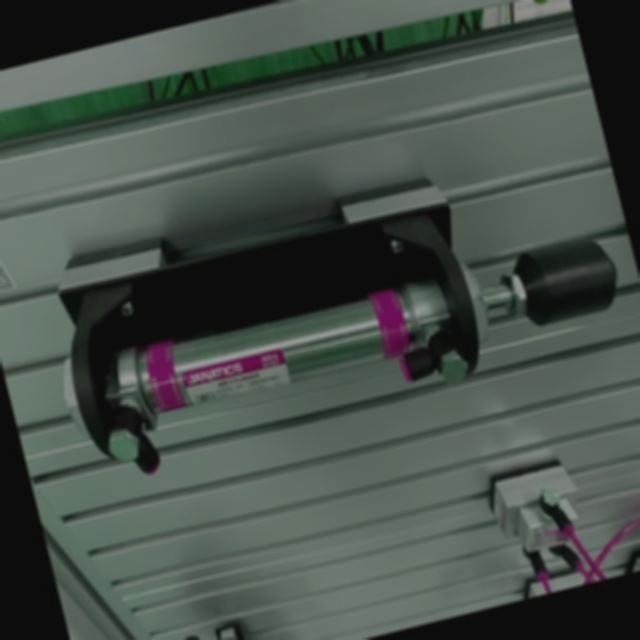double acting pneumatic cylinder: (29, 117, 640, 496)
